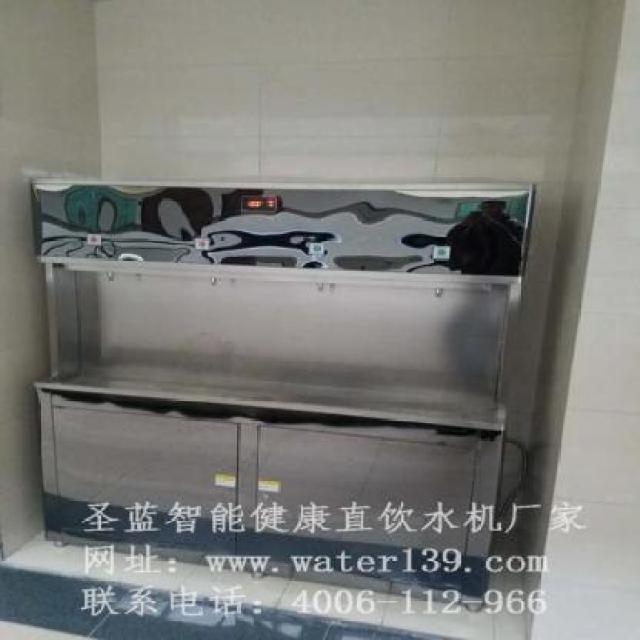cooler: (23, 171, 541, 608)
